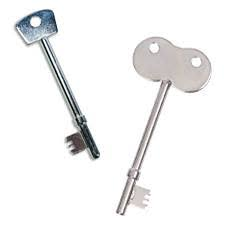kicharina: (114, 34, 213, 217), (13, 5, 101, 169)
